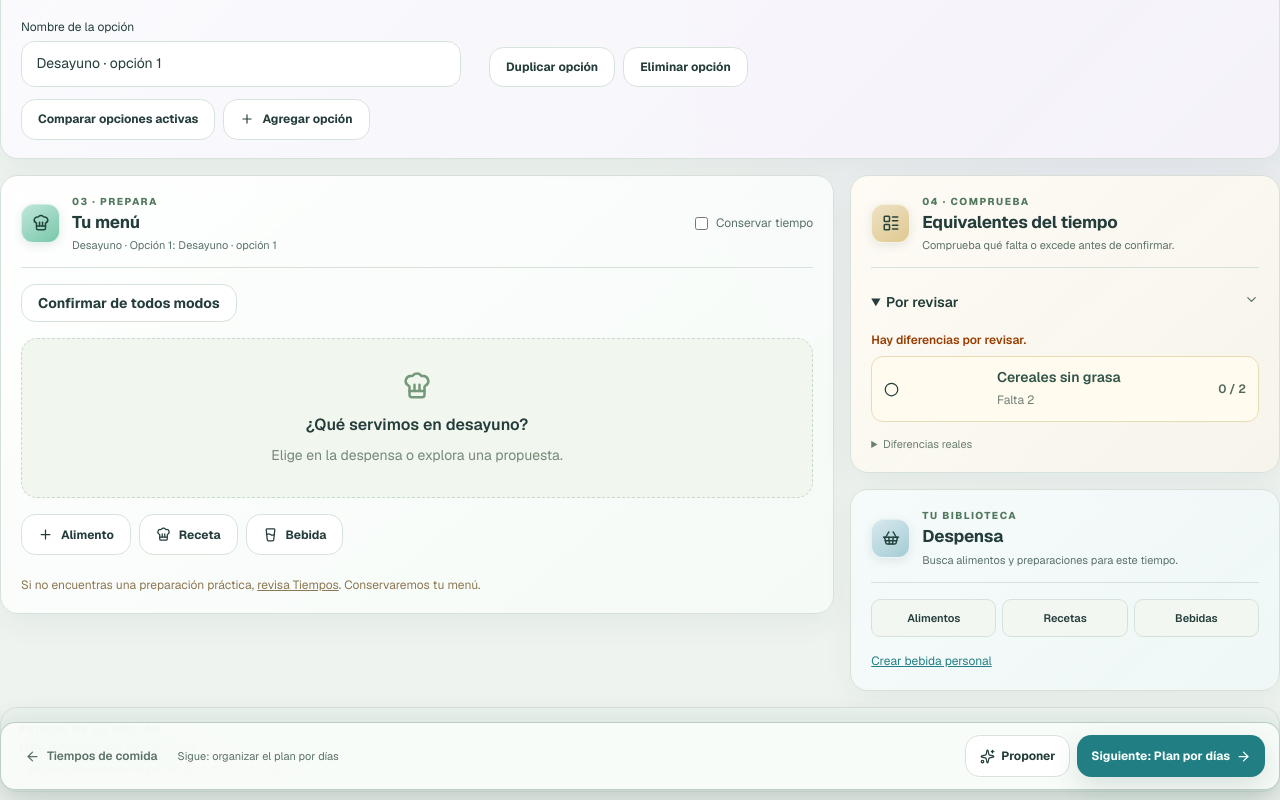
Test case: DietMenuStep › fills contextual CEREALS_NO_FAT with Tortilla and preserves its unit
(page scrolled)
Click the text "Falta 2" at (1016, 400), box [997, 392, 1034, 408]
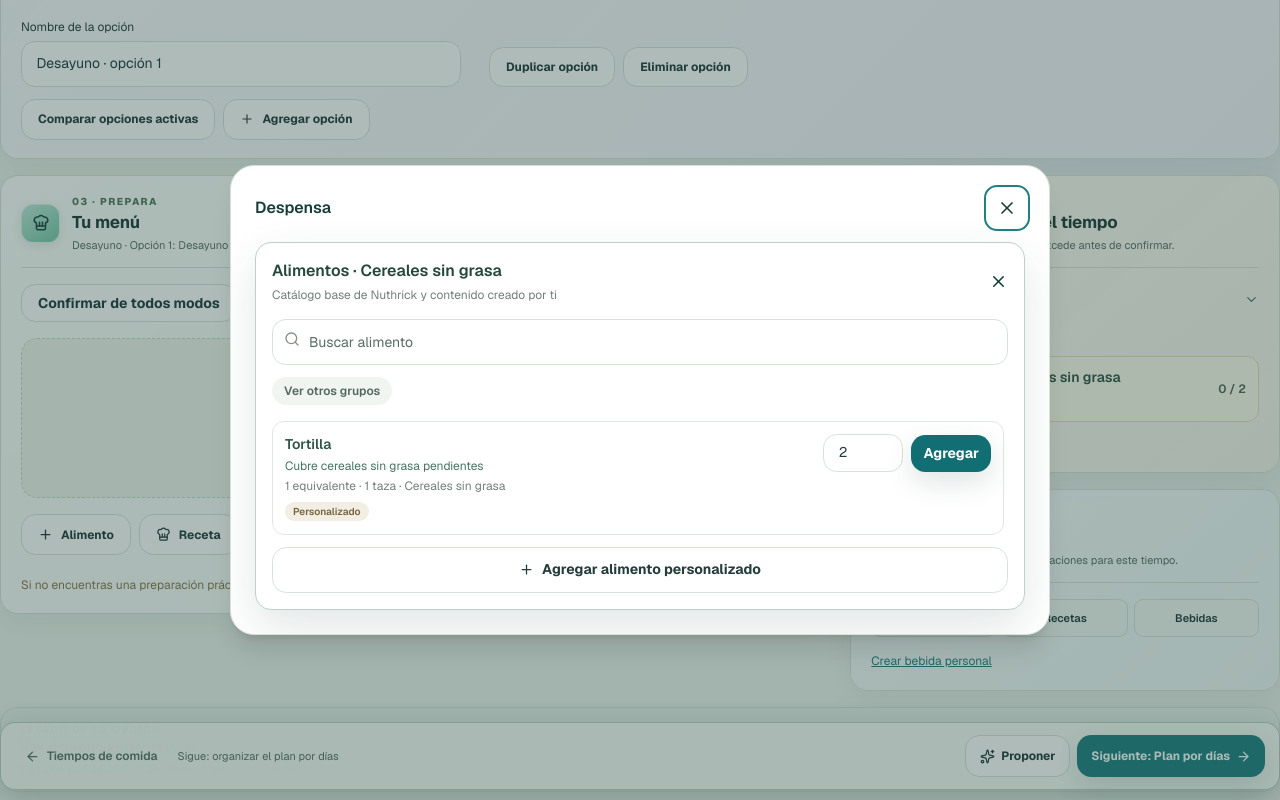
expect the number field named "Cantidad de Tortilla" holds "2": met, box [823, 434, 903, 472]
Click the button "Agregar" at (951, 453), box [911, 435, 991, 472]
(page scrolled)
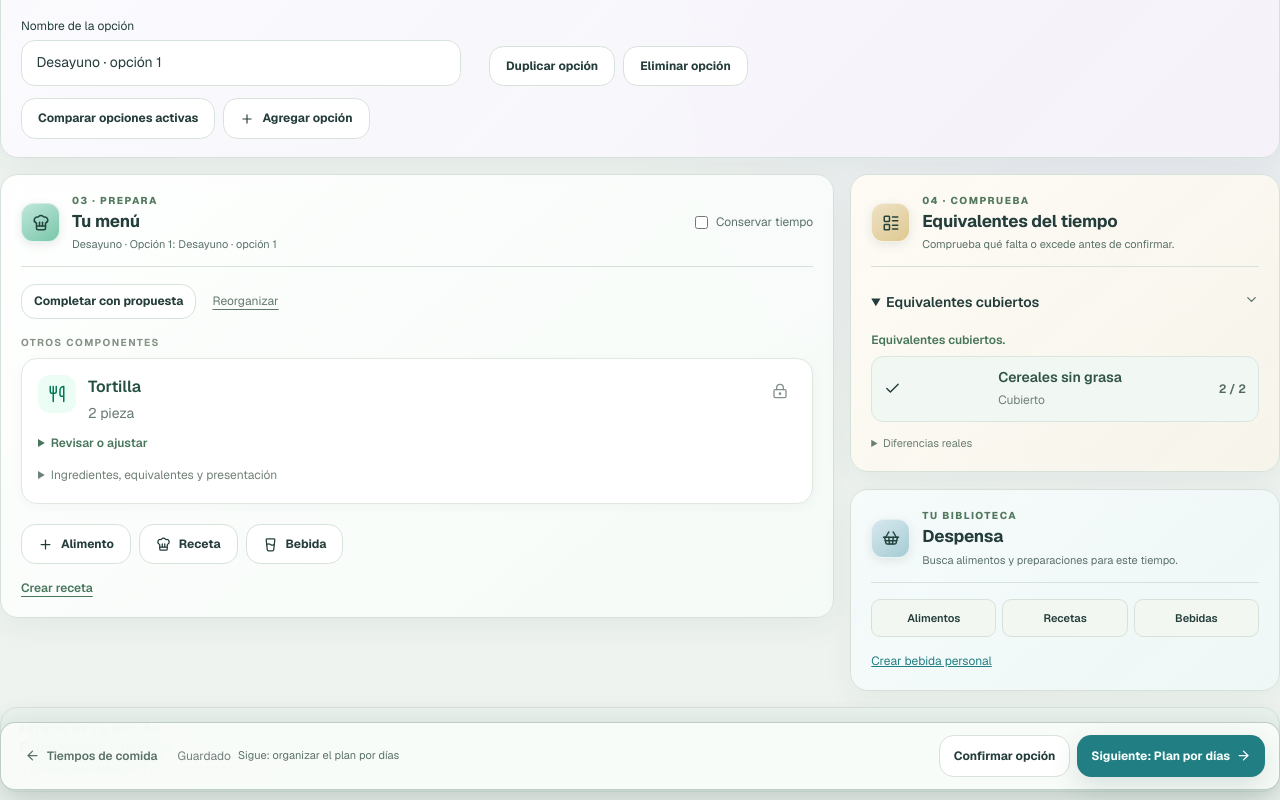
expect the text "Cubierto" is shown: met, box [998, 392, 1045, 408]
Replace the text in the number field named "Cantidad de Tortilla" with "1" at (99, 443), box [51, 435, 148, 451]
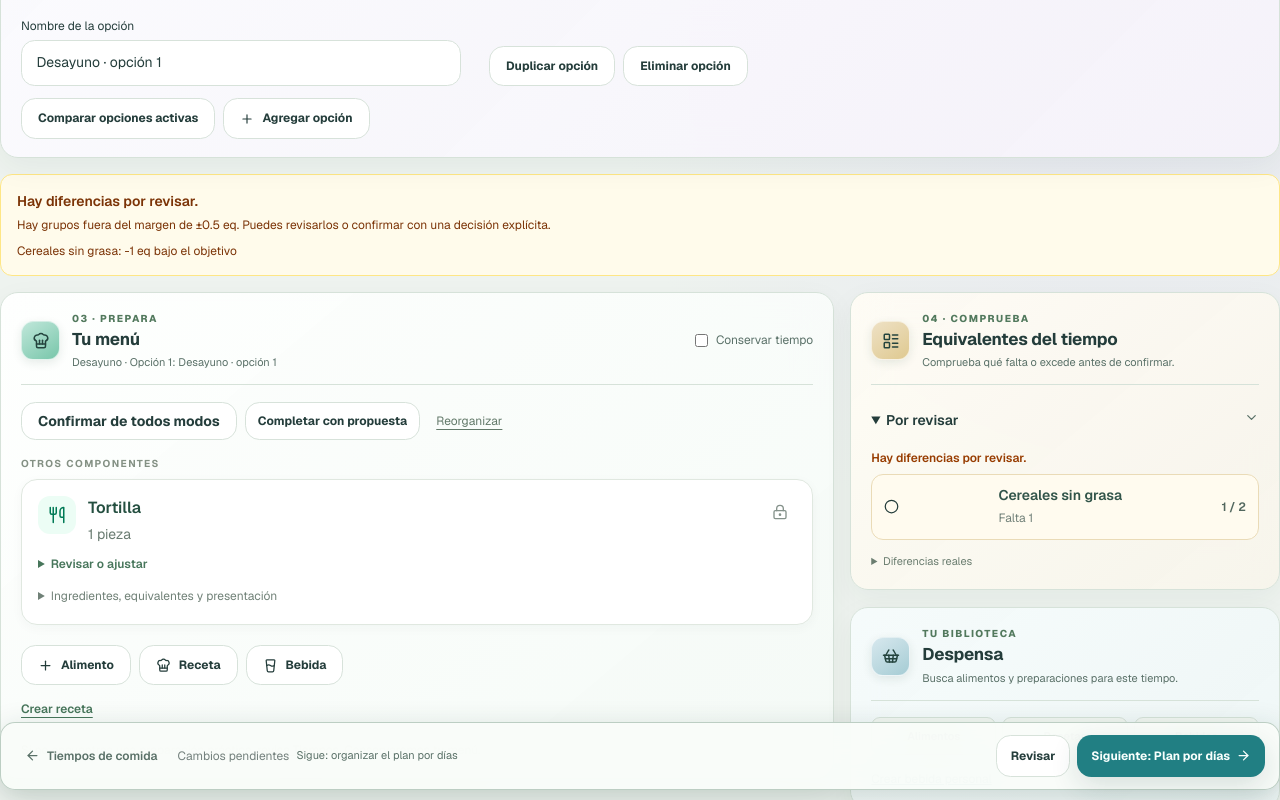
expect the text "Falta 1" is shown: met, box [998, 510, 1033, 526]
